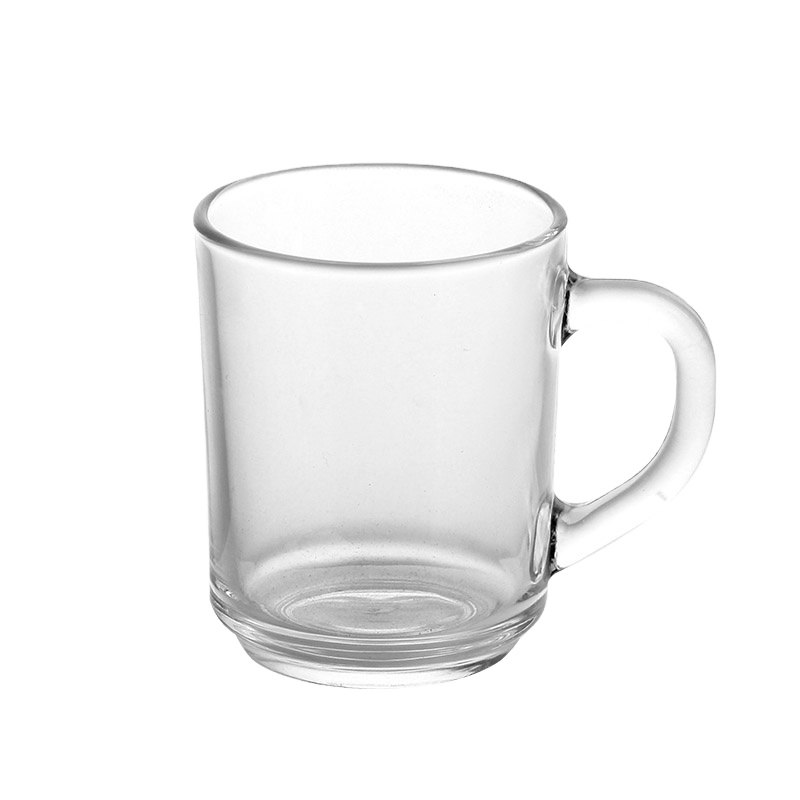cup: (188, 160, 724, 690)
